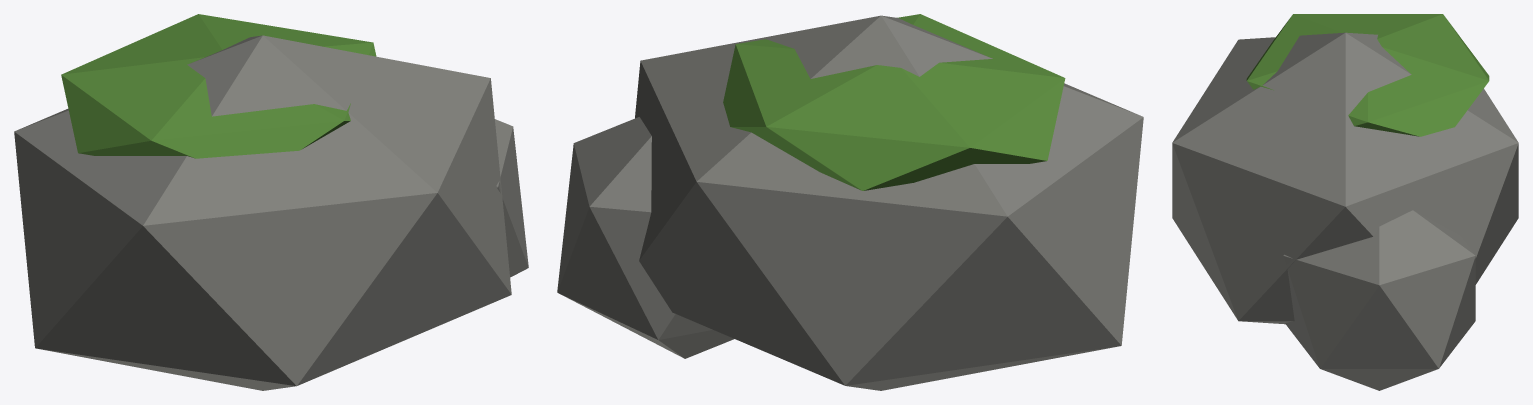
The model's file is Rock.fbx.
3 renders of one model, left to right at view 1: azimuth 30°, elevation 25°; view 2: azimuth 150°, elevation 25°; view 3: azimuth 270°, elevation 25°, orthographic. The views are drawn at different scales.
Parts seen in each view (by area): view 1: Stone, Moss; view 2: Stone, Moss; view 3: Stone, Moss.
Part boxes in pixels (x1,y1,x2,y2): Stone: [14, 35, 528, 390]; Moss: [61, 14, 376, 158]; Stone: [557, 15, 1143, 390]; Moss: [723, 14, 1065, 190]; Stone: [1172, 32, 1518, 390]; Moss: [1246, 14, 1489, 136].
Size of the model in its own units: 4.23 by 2.88 by 3.06.
